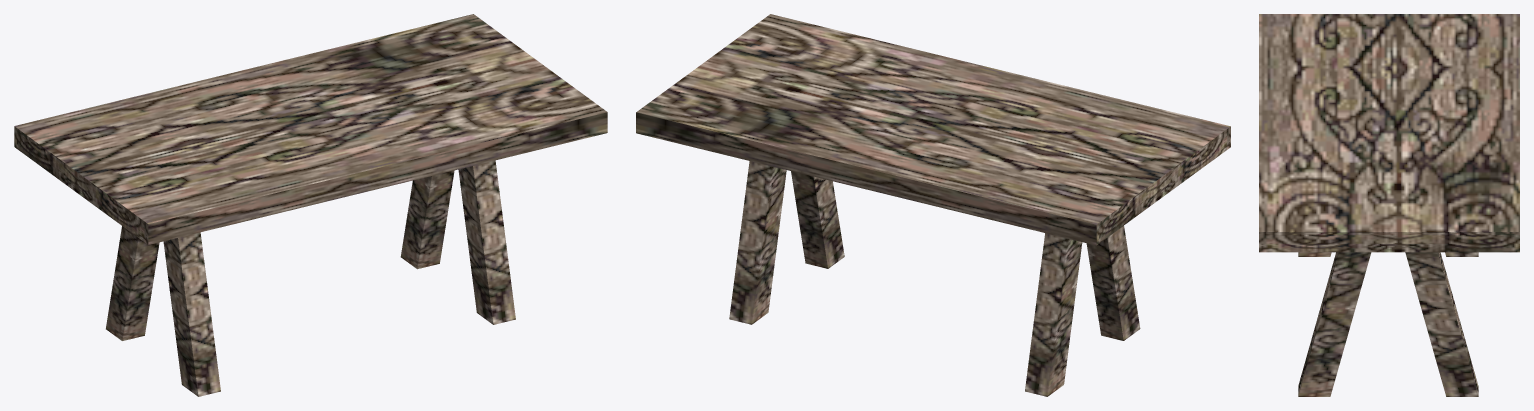
3 renders of one model, left to right at view 1: azimuth 30°, elevation 25°; view 2: azimuth 150°, elevation 25°; view 3: azimuth 270°, elevation 25°, orthographic. The views are drawn at different scales.
Parts seen in each view (by area): view 1: Furniture03; view 2: Furniture03; view 3: Furniture03.
Part boxes in pixels (x1,y1,x2,y2): Furniture03: (14,14,607,396); Furniture03: (636,14,1230,396); Furniture03: (1259,14,1519,396).
Bounding box in the file's own units: 203 × 86.58 × 103.
